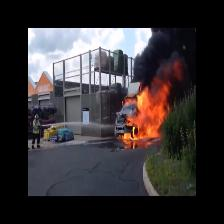fire: (130, 86, 166, 138)
smoke: (146, 27, 192, 84)
